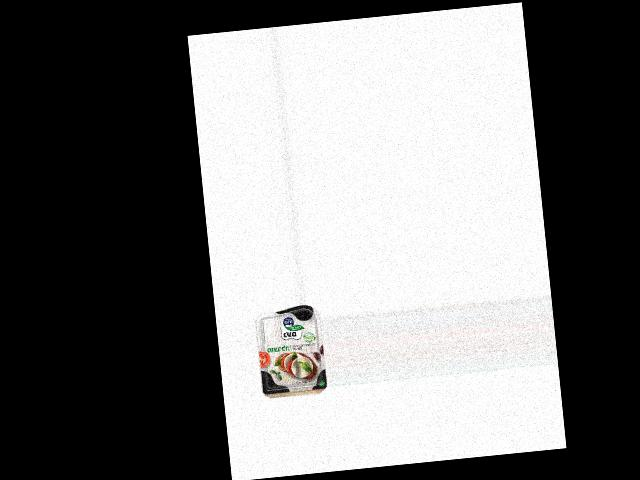cheese: (253, 305, 327, 395)
